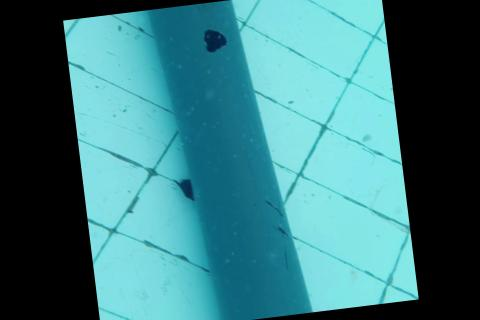kebocoran: (200, 27, 227, 54)
keretakan: (261, 189, 295, 273)
